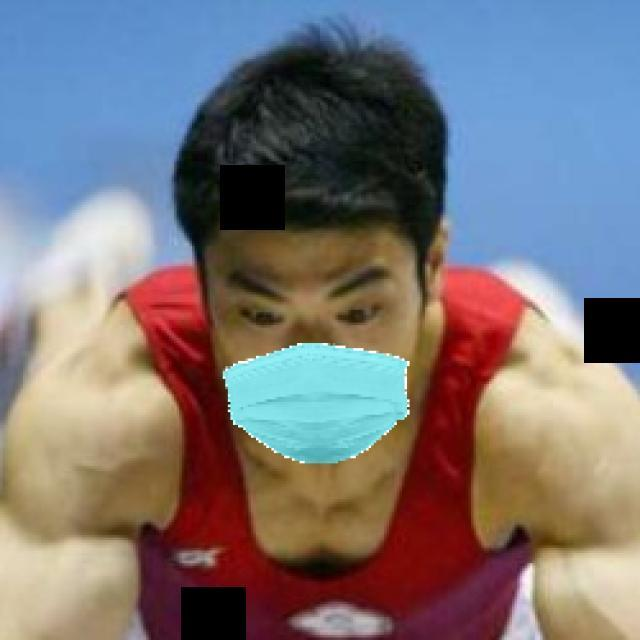surgical: (200, 149, 428, 467)
